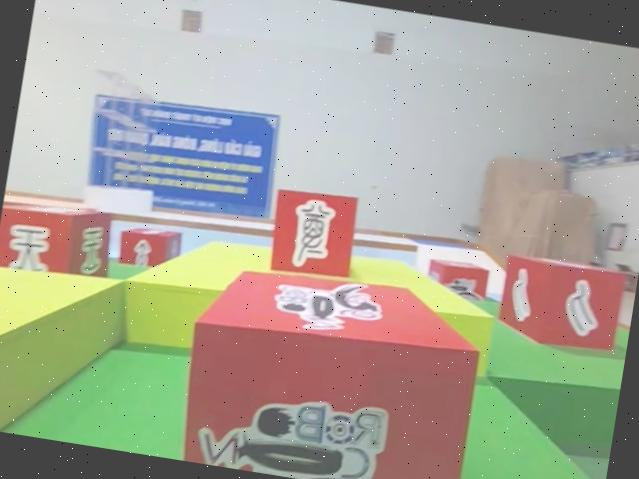R1: (173, 249, 494, 479), (423, 249, 494, 309)
R2 Fake: (261, 180, 364, 288)
R2 Real: (492, 247, 632, 358), (0, 186, 116, 289), (111, 217, 183, 280)
